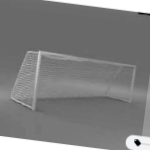goals: (9, 47, 139, 115)
